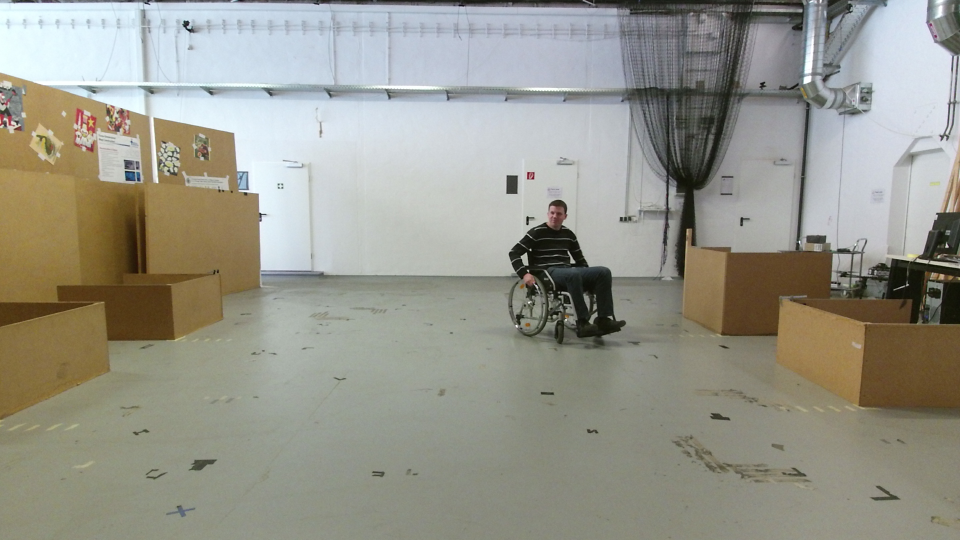wheelchair: (496, 194, 626, 350)
